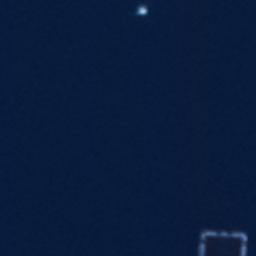square_solid: (195, 227, 252, 255)
